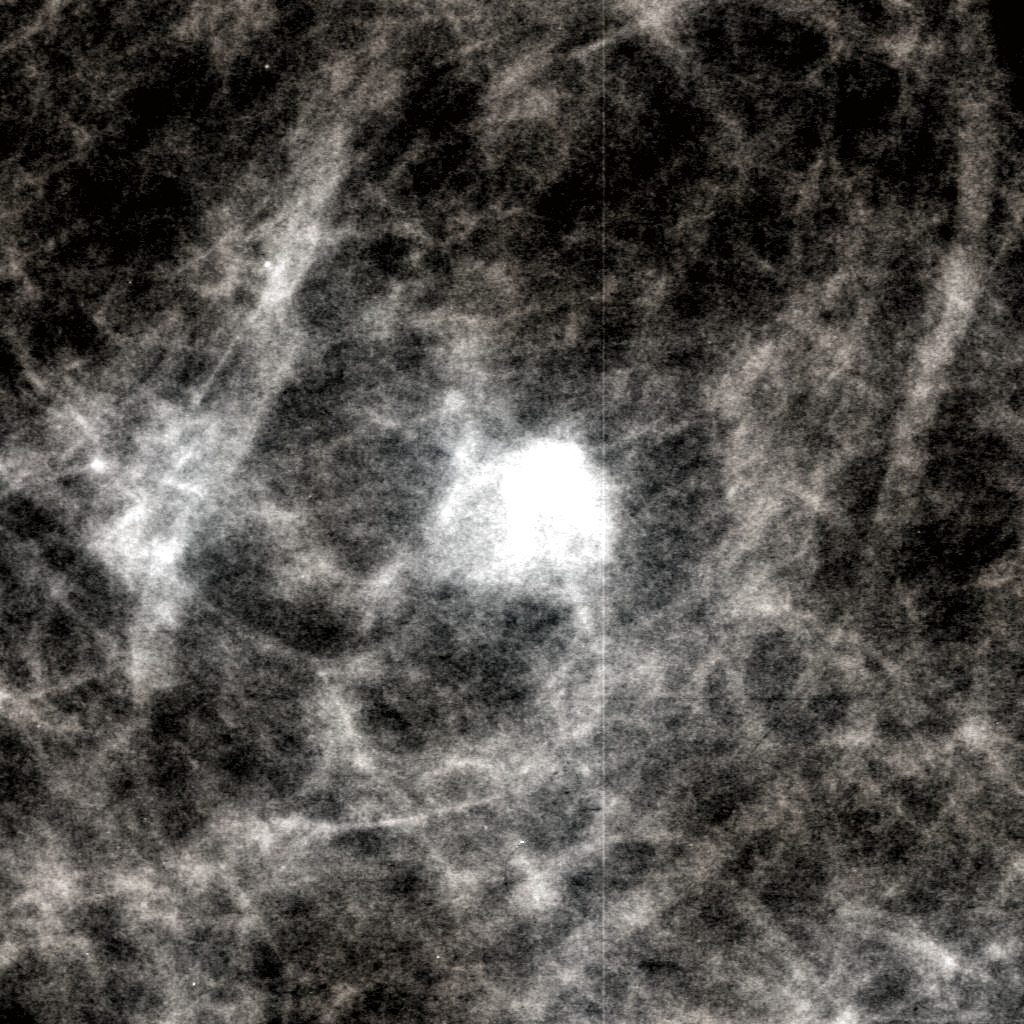tumor: (373, 388, 651, 636)
